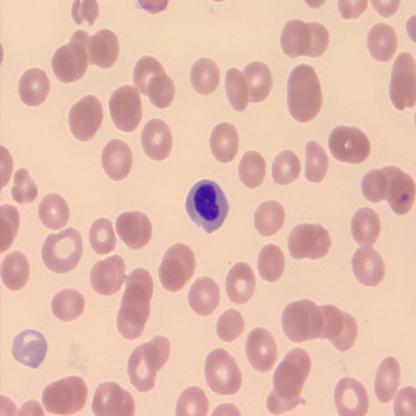NRC: (184, 178, 233, 236)
